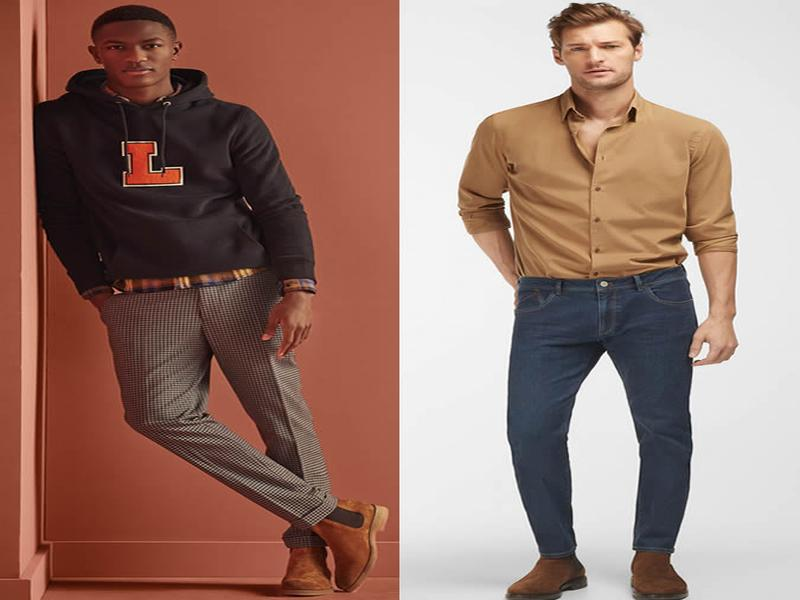shoes_men_chelsea_chelseaboots_suede_none_none_brown_none: (238, 507, 404, 593), (496, 552, 607, 598), (615, 543, 697, 600)
